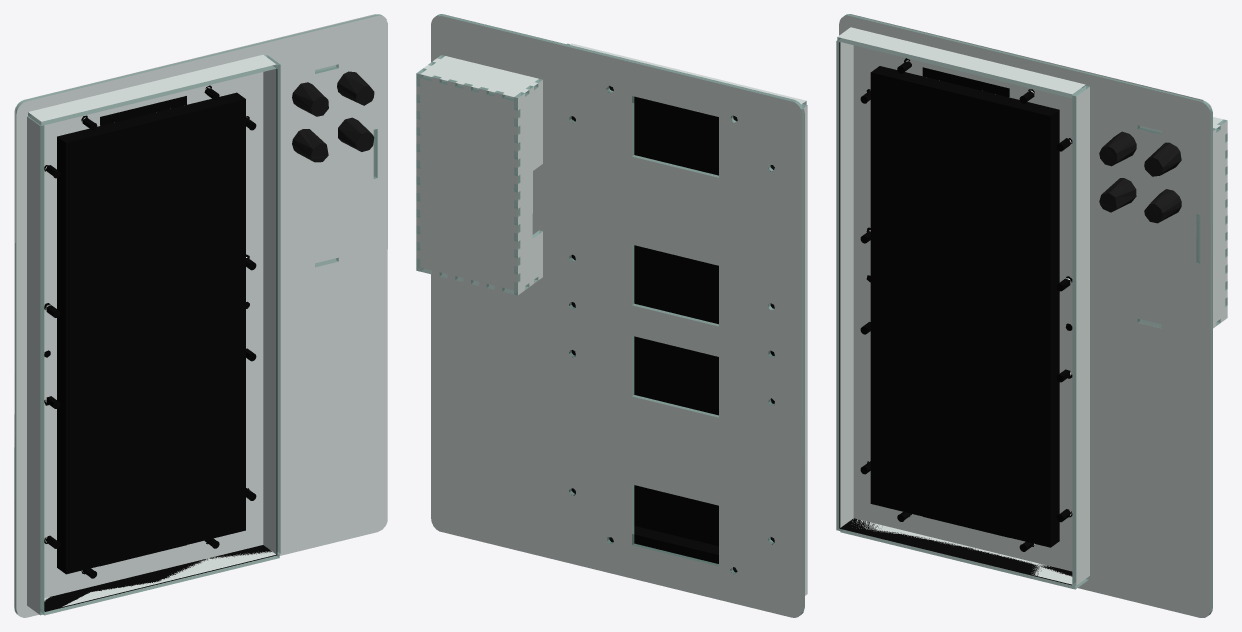
Rendered from light.glb.
3 views of the same model, side by side, from view 1: azimuth 30°, elevation 25°; view 2: azimuth 150°, elevation 25°; view 3: azimuth 330°, elevation 25° (orthographic).
Parts seen in each view (by area): view 1: body, l; view 2: body, l; view 3: body, l.
Boxes of the visible parts, <box> form: body: <box>14,14,387,617</box>; l: <box>44,85,256,578</box>; body: <box>416,14,807,617</box>; l: <box>569,86,774,573</box>; body: <box>836,14,1227,617</box>; l: <box>860,58,1072,551</box>.
Size of the model in its own units: 25.6 by 34 by 5.35.
